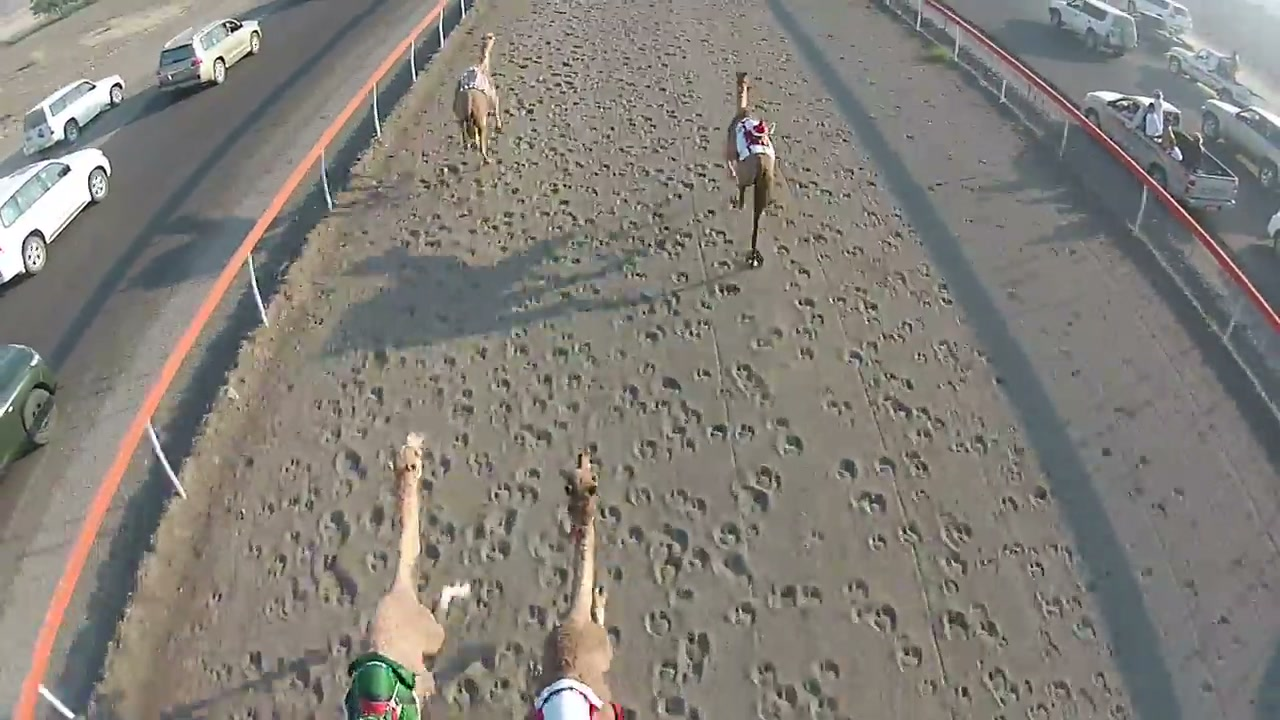animal_footprint: (99, 0, 1126, 719), (713, 370, 939, 681), (650, 630, 715, 716), (751, 660, 840, 717), (648, 524, 712, 588), (445, 663, 523, 711), (462, 508, 519, 564), (941, 605, 1007, 647), (730, 464, 781, 515), (489, 469, 541, 513), (730, 361, 774, 404), (679, 631, 713, 682), (850, 601, 898, 634), (664, 487, 707, 522), (717, 552, 754, 588), (767, 584, 822, 608), (467, 578, 505, 612), (732, 484, 772, 515), (824, 388, 857, 425), (518, 602, 556, 634), (436, 582, 472, 613), (714, 520, 746, 550), (850, 489, 888, 514), (537, 563, 570, 591), (896, 636, 923, 670), (643, 609, 672, 636), (752, 326, 785, 349), (728, 601, 757, 627), (591, 584, 608, 626), (834, 458, 860, 483), (745, 250, 764, 268), (729, 193, 742, 209)
